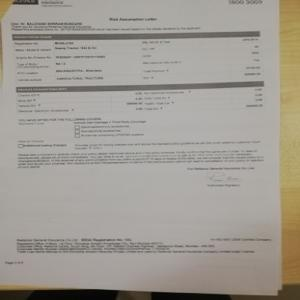table: (13, 80, 264, 139), (7, 31, 267, 81)
text: (11, 236, 272, 254), (17, 148, 266, 165)
